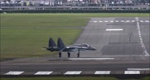maybay_muctieu: (44, 39, 96, 57)
